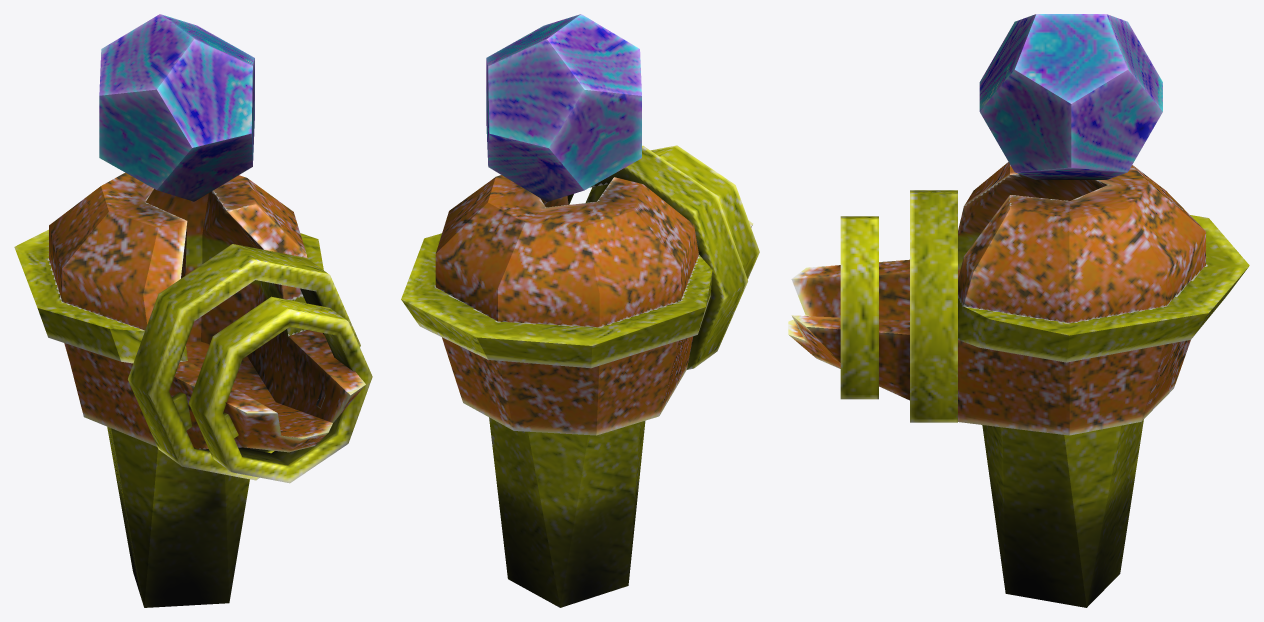
The model's file is EctoLOD2Top.fbx.
3 renders of one model, left to right at view 1: azimuth 30°, elevation 25°; view 2: azimuth 150°, elevation 25°; view 3: azimuth 270°, elevation 25°, orthographic. The views are drawn at different scales.
Visible parts, largest first — view 1: polySurface1848; view 2: polySurface1848; view 3: polySurface1848.
Boxes of the visible parts, x1,y1,x2,y2 form: polySurface1848: (14, 14, 372, 607); polySurface1848: (401, 14, 759, 607); polySurface1848: (788, 14, 1249, 607).
Bounding box in the file's own units: 2.08 × 3.94 × 2.89.
1 material, 1 textured.
